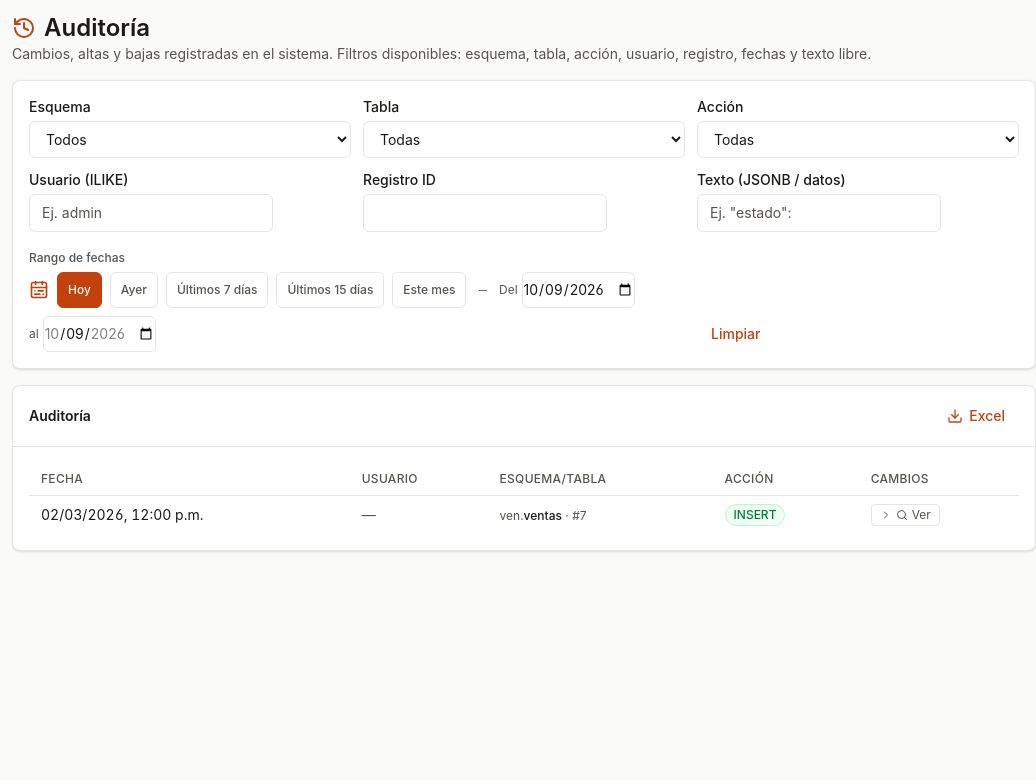
it: AuditoriaPage (profundización) › expande el detalle con guiones cuando no hay datos
This screenshot has width=1036, height=780.
Click the button "Ver": [905, 515] box [871,504,940,526]
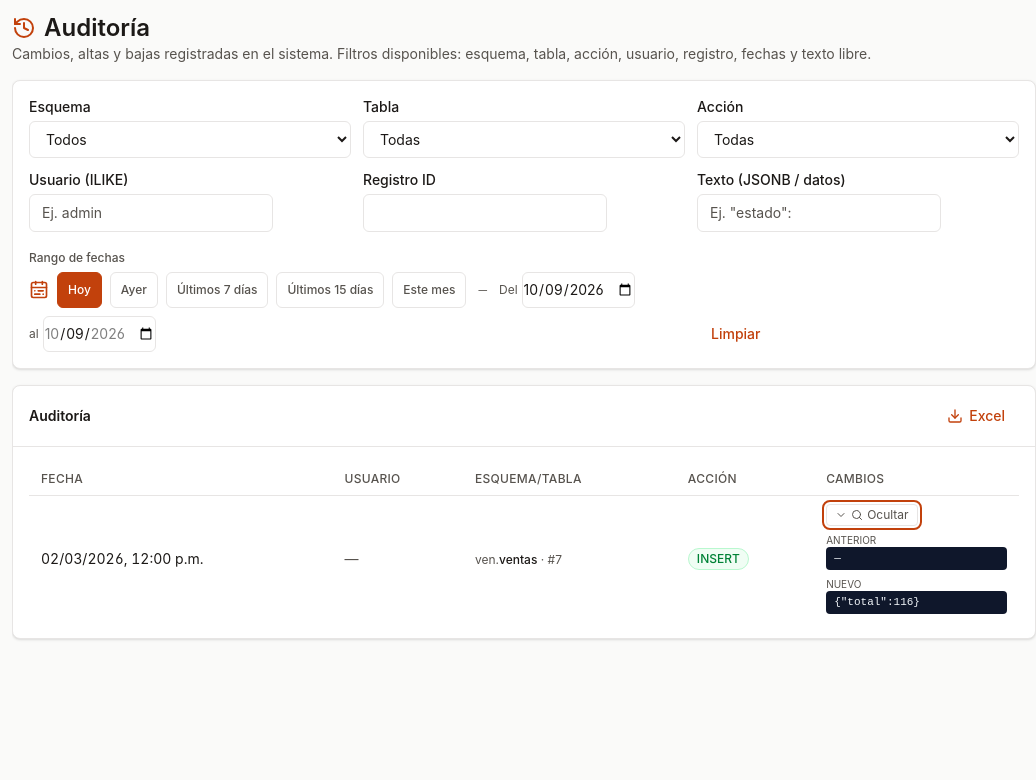
Now the button "Ocultar" is shown, box [826,504,918,526]
